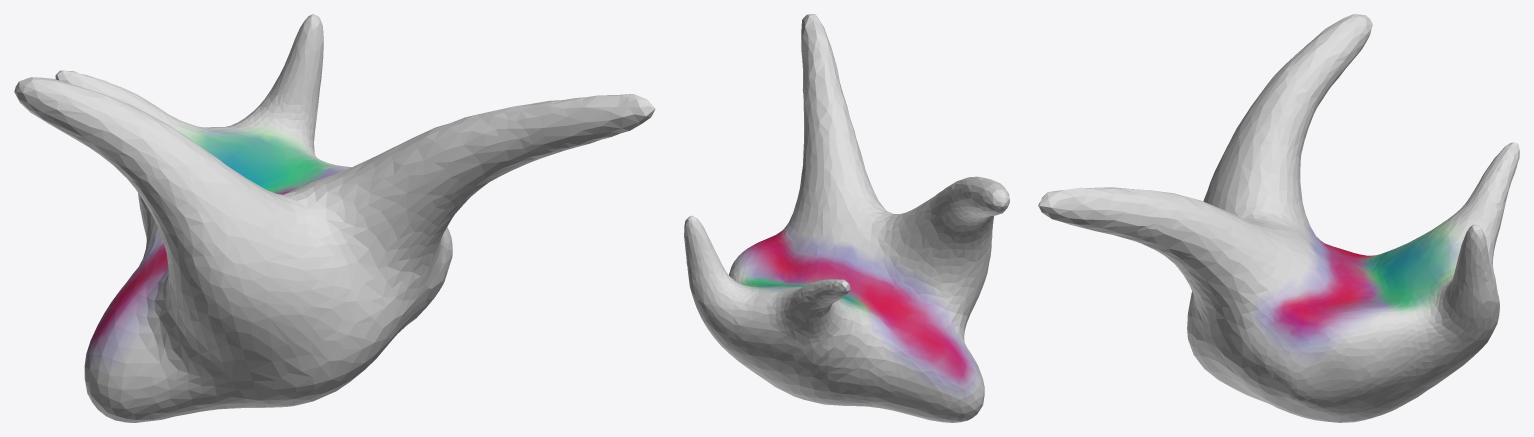
Rendered from Floating Island Horns.fbx.
The picture shows the model from 3 angles, left to right: view 1: azimuth 30°, elevation 25°; view 2: azimuth 150°, elevation 25°; view 3: azimuth 270°, elevation 25°; orthographic projection. The views are drawn at different scales.
Parts seen in each view (by area): view 1: Sphere; view 2: Sphere; view 3: Sphere.
Boxes of the visible parts, x1,y1,x2,y2 form: Sphere: (14,14,655,422); Sphere: (684,14,1009,422); Sphere: (1038,14,1519,422).
Bounding box in the file's own units: 809 × 597 × 850.
